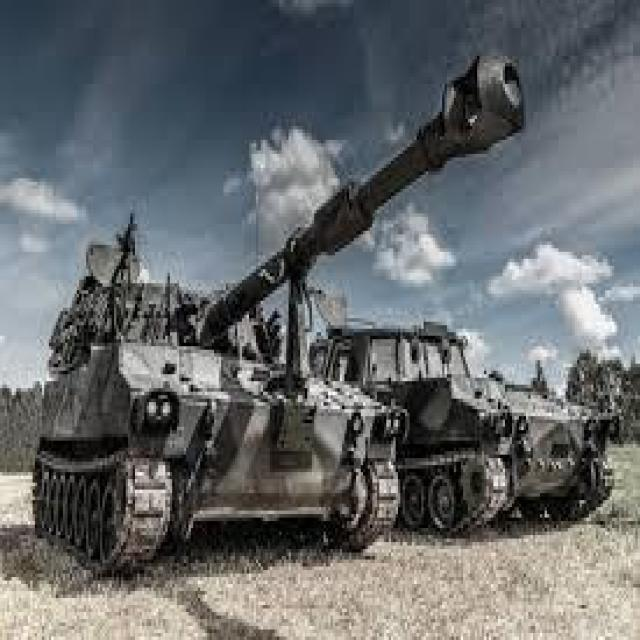MIL_MBT: (43, 124, 571, 589)
